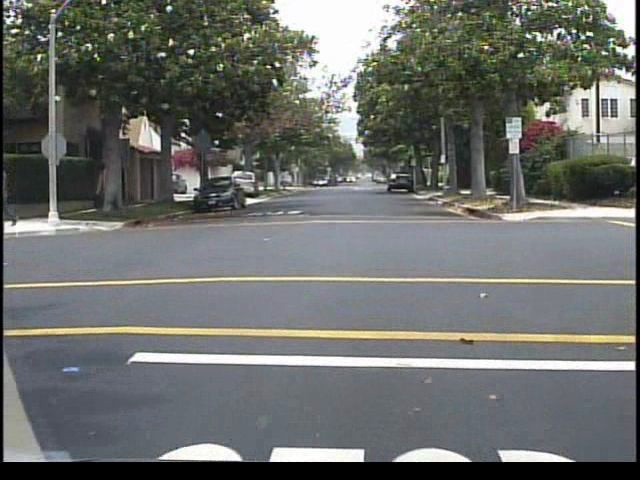person: (1, 154, 24, 228)
